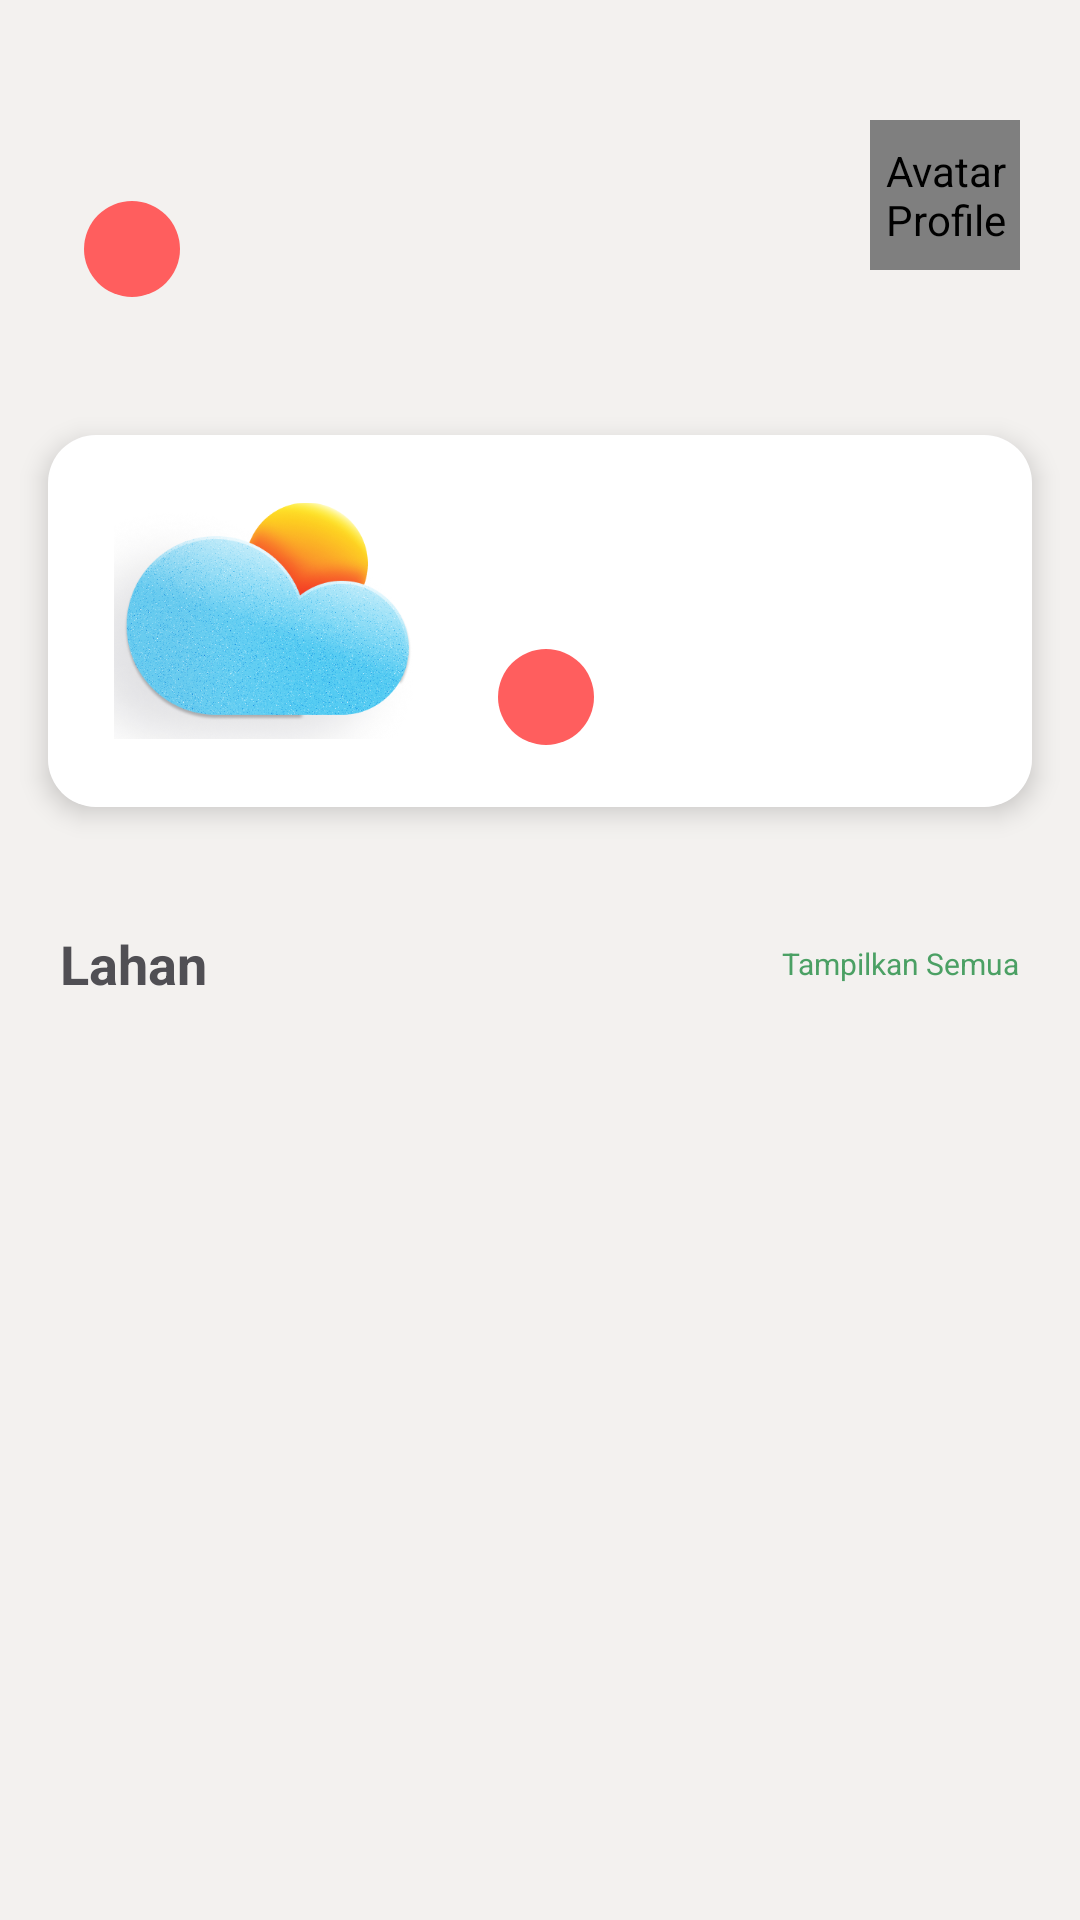

Point at icon controls on the screen. Image size 1080px x 1920px, points as (x=x, y=y).
weather: (x=261, y=612)
